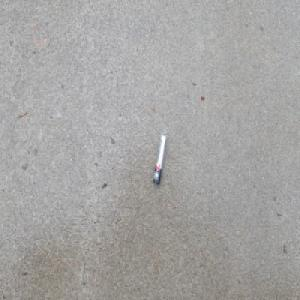Battery: (152, 132, 167, 185)
